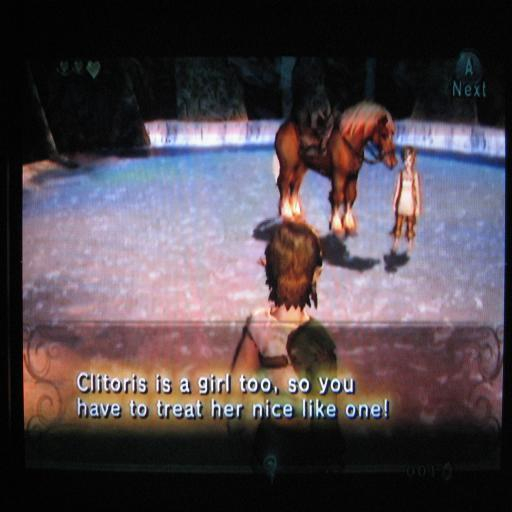horse: (274, 99, 396, 237)
